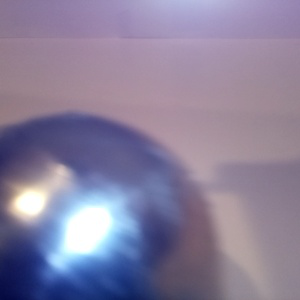alive_ball: (1, 113, 213, 300)
